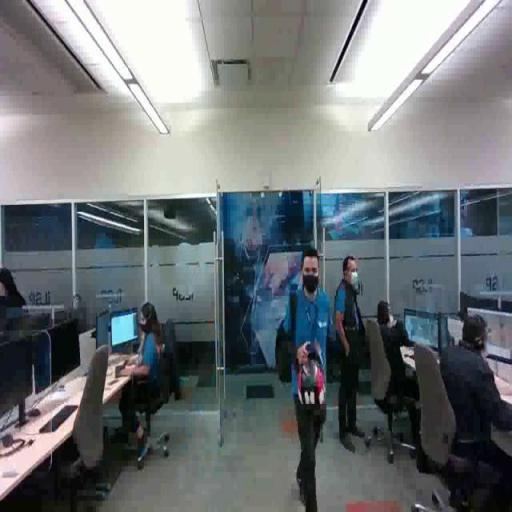person: (438, 314, 512, 512), (277, 246, 330, 512), (108, 297, 180, 476), (362, 301, 440, 461), (333, 256, 371, 449)
